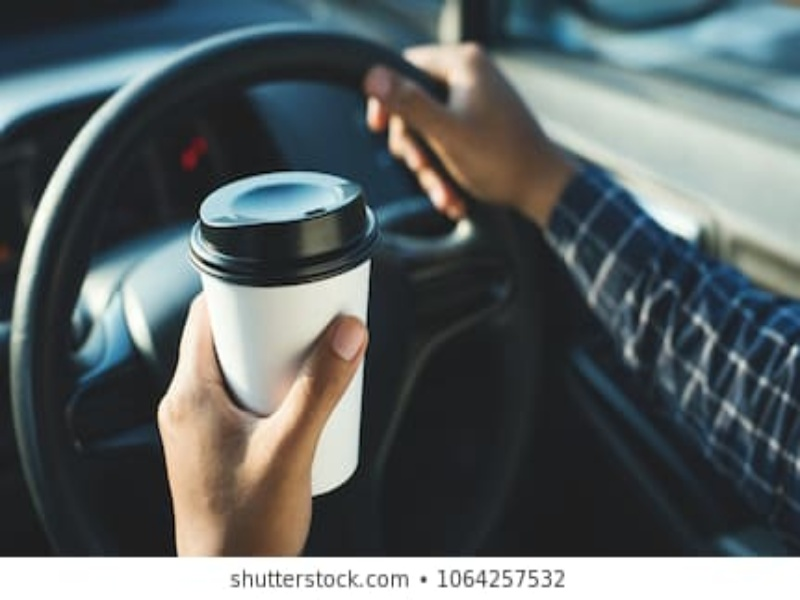coffee-lid: (185, 167, 387, 289)
plastic-cup: (182, 169, 378, 499)
